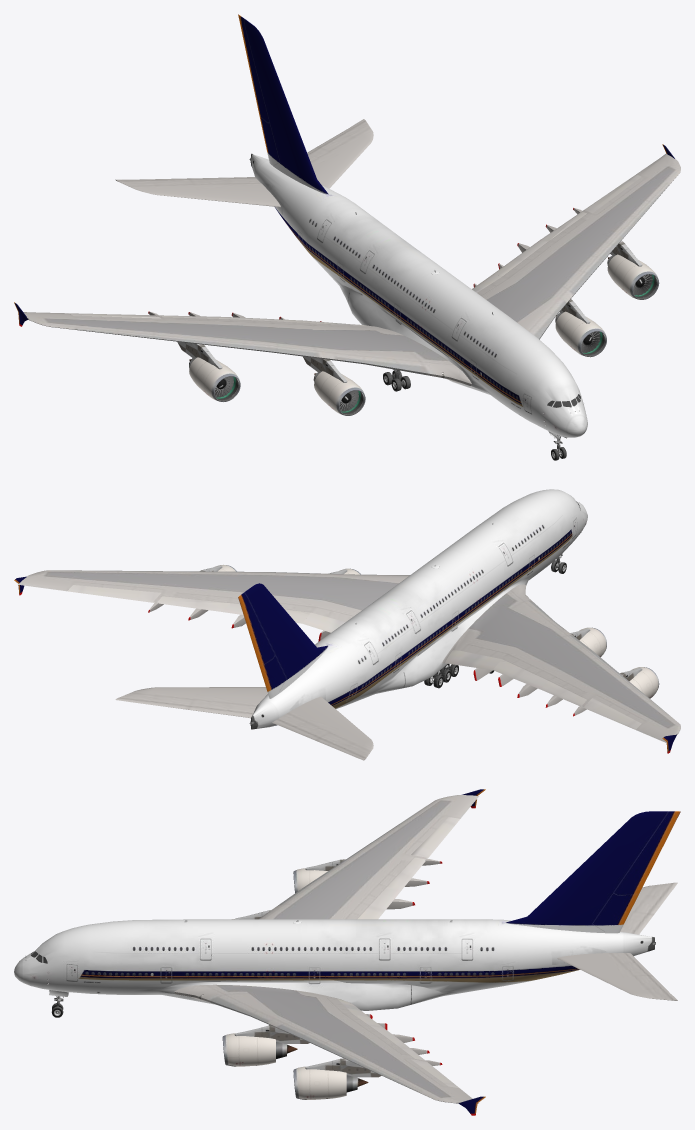
The picture shows the model from 3 angles, top to bottom: view 1: azimuth 30°, elevation 25°; view 2: azimuth 150°, elevation 25°; view 3: azimuth 270°, elevation 25°; orthographic projection. The views are drawn at different scales.
Visible parts, largest first — view 1: vehicle; view 2: vehicle; view 3: vehicle.
Boxes of the visible parts, bbox=[...] form: vehicle: bbox=[14, 14, 680, 460]; vehicle: bbox=[14, 489, 680, 760]; vehicle: bbox=[14, 789, 680, 1115].
Bounding box in the file's own units: 79.35 × 24.58 × 72.7.
1 material, 1 textured.
